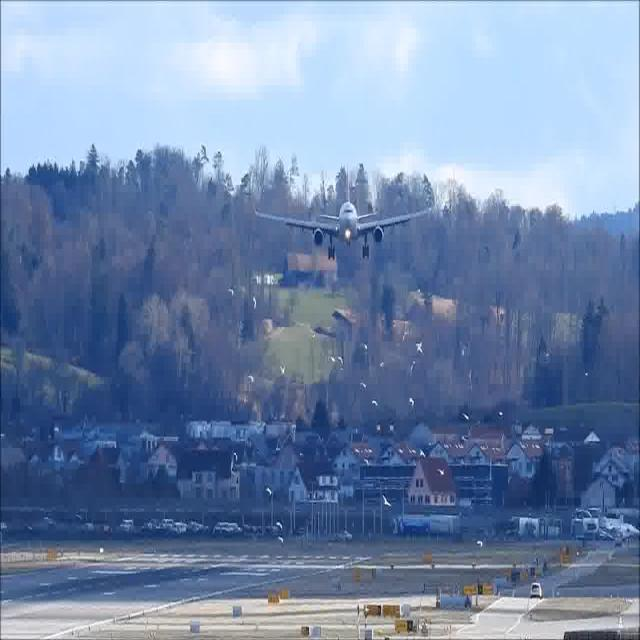bird: (414, 339, 424, 357), (264, 484, 274, 496), (279, 361, 288, 374), (248, 372, 255, 388), (383, 493, 391, 507), (358, 381, 368, 391), (461, 413, 472, 422), (275, 520, 283, 532), (361, 340, 369, 352), (437, 466, 445, 477), (336, 353, 343, 365), (229, 286, 236, 298), (276, 535, 284, 545), (409, 395, 414, 409), (370, 400, 377, 410)
